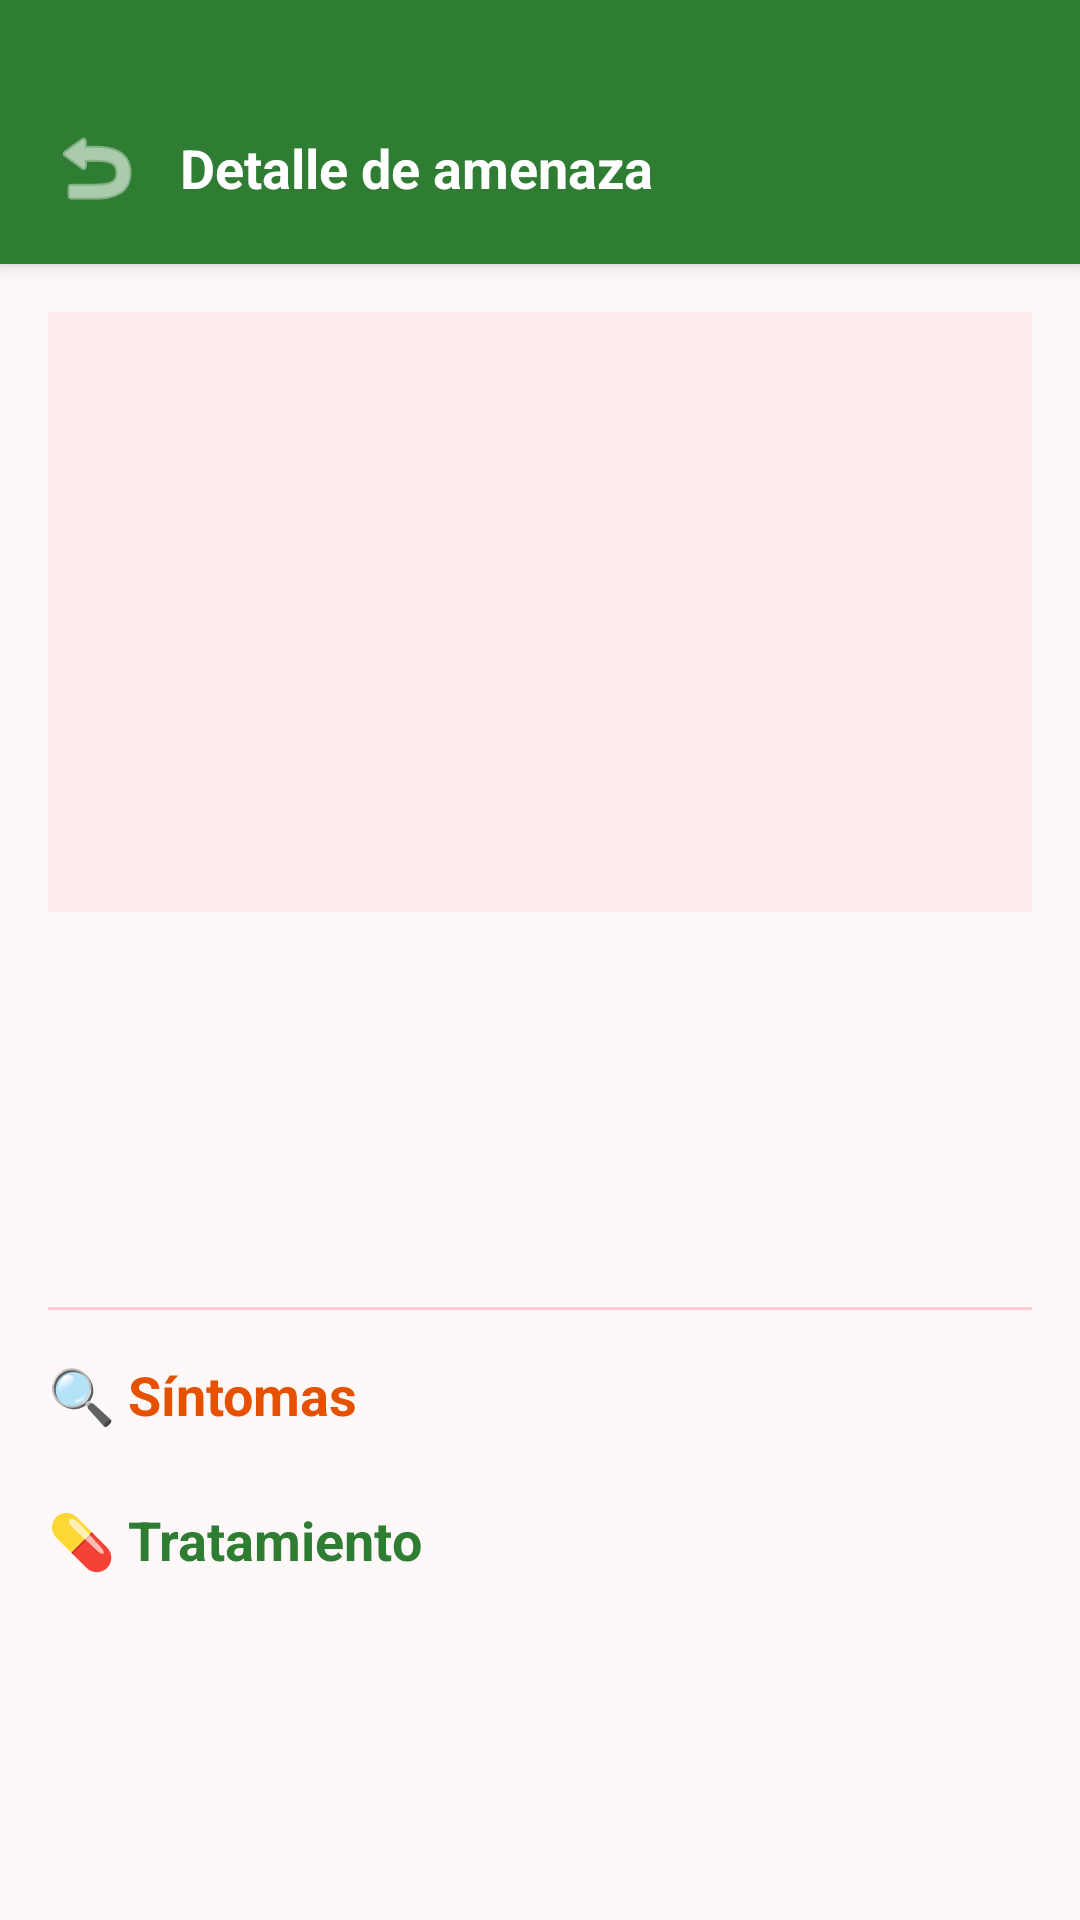

Icon bounding boxes for this 1080w x 1920h phone screenshot, format bbox=[x1, y1, x2, y2]:
revert: bbox=[63, 137, 132, 200]
